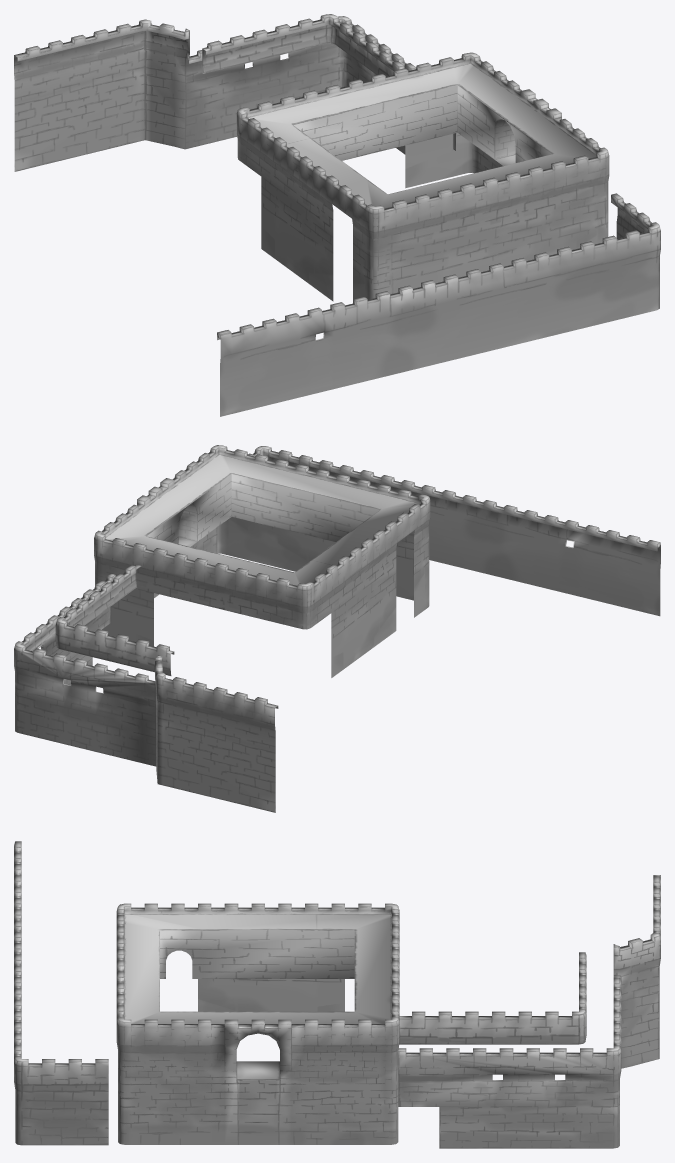
The model's file is castleWall2.fbx.
The picture shows the model from 3 angles, top to bottom: view 1: azimuth 30°, elevation 25°; view 2: azimuth 150°, elevation 25°; view 3: azimuth 270°, elevation 25°; orthographic projection. The views are drawn at different scales.
Visible parts, largest first — view 1: castle.001; view 2: castle.001; view 3: castle.001.
Part boxes in pixels (box(x1,y1,x2,y2)): castle.001: box(14, 14, 660, 416); castle.001: box(14, 445, 660, 812); castle.001: box(14, 841, 660, 1148).
Size of the model in its own units: 14802 by 4248 by 18286.
